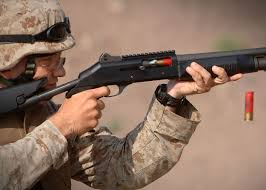Gun: (100, 45, 263, 90)
